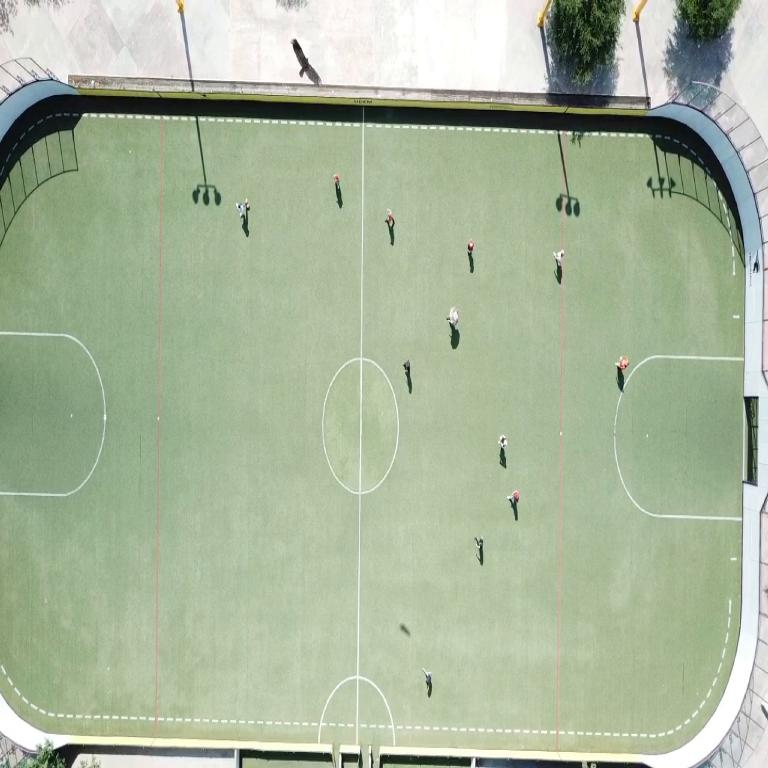AC: (614, 356, 742, 521), (0, 331, 106, 498)
B: (246, 204, 250, 211)
MC: (356, 107, 365, 741)
P: (236, 199, 249, 217), (447, 308, 458, 327), (554, 250, 564, 269), (617, 356, 628, 372), (507, 490, 519, 504), (475, 536, 483, 557), (498, 435, 508, 450), (423, 668, 431, 686), (403, 358, 411, 376), (387, 210, 394, 229), (333, 173, 340, 187), (468, 239, 473, 253)
